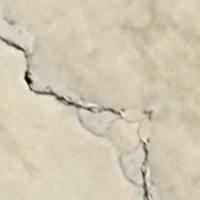crack: (1, 28, 161, 196)
